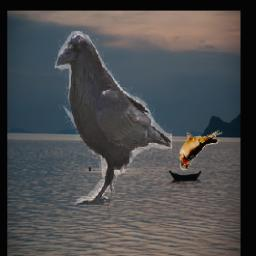Crow: (56, 31, 173, 205)
Swallow: (179, 128, 222, 170)
